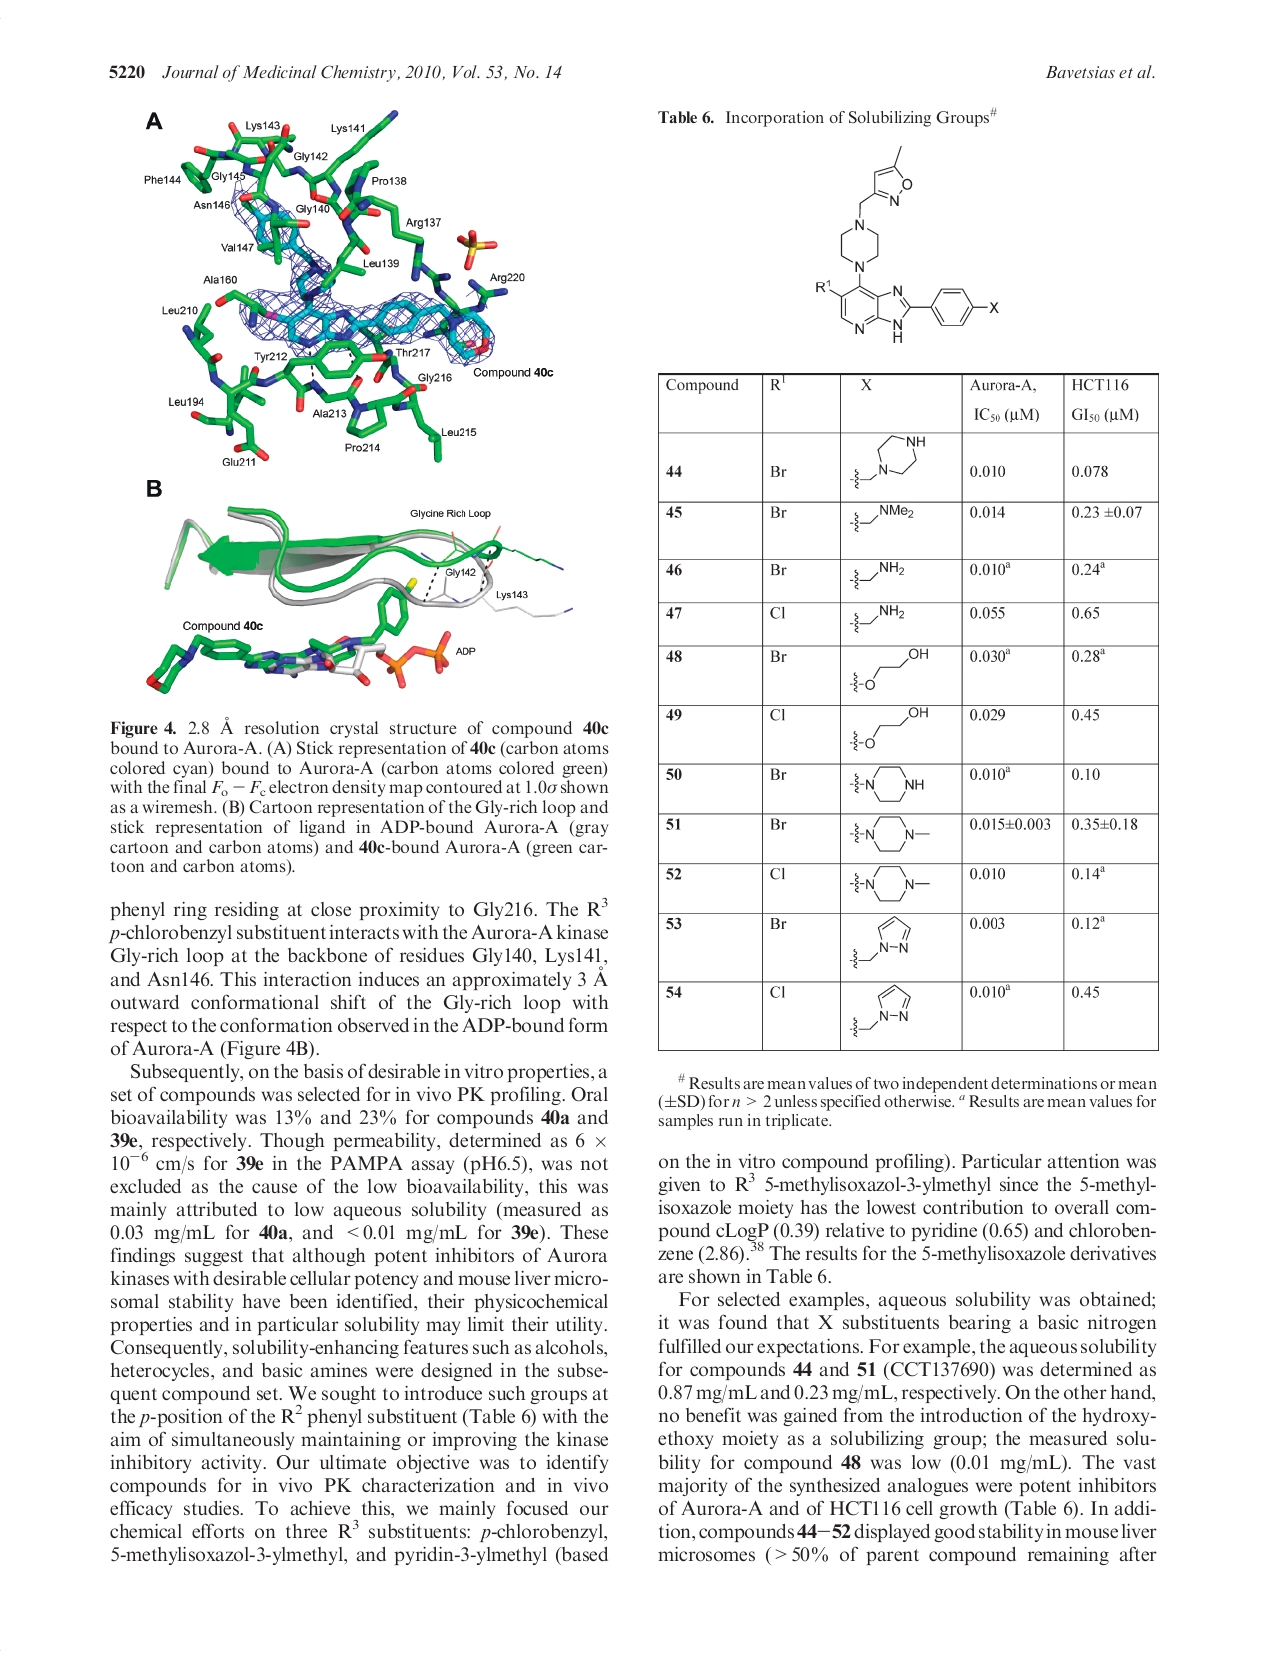exist_molecular: (810, 144, 999, 344), (848, 434, 926, 489), (848, 706, 930, 751), (848, 648, 930, 692), (848, 915, 912, 969), (848, 984, 912, 1039), (848, 864, 931, 902), (848, 815, 930, 852), (848, 766, 924, 803), (850, 504, 915, 533), (848, 561, 906, 590), (848, 604, 906, 633)
